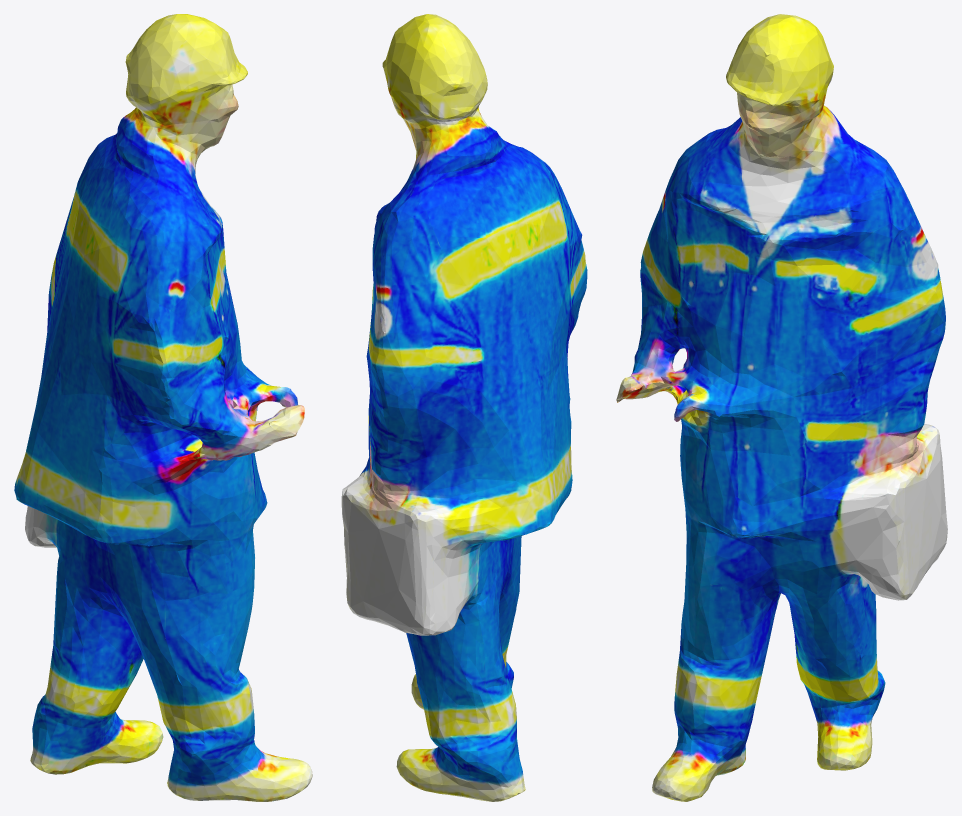
Rendered from human.dae.
3 renders of one model, left to right at view 1: azimuth 30°, elevation 25°; view 2: azimuth 150°, elevation 25°; view 3: azimuth 270°, elevation 25°, orthographic. The views are drawn at different scales.
Visible parts, largest first — view 1: ORITGT01; view 2: ORITGT01; view 3: ORITGT01.
Boxes of the visible parts, x1,y1,x2,y2 form: ORITGT01: [14, 14, 312, 801]; ORITGT01: [341, 14, 587, 801]; ORITGT01: [616, 14, 947, 801].
Bounding box in the file's own units: 4.29 × 14.31 × 5.65.
Materials: 1 (1 with a texture image).
